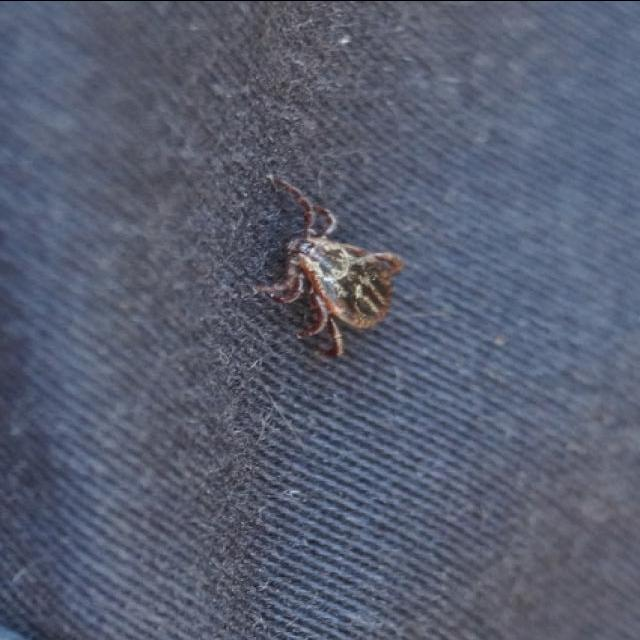Dermacentor Reticulatus-M: (253, 177, 405, 358)
